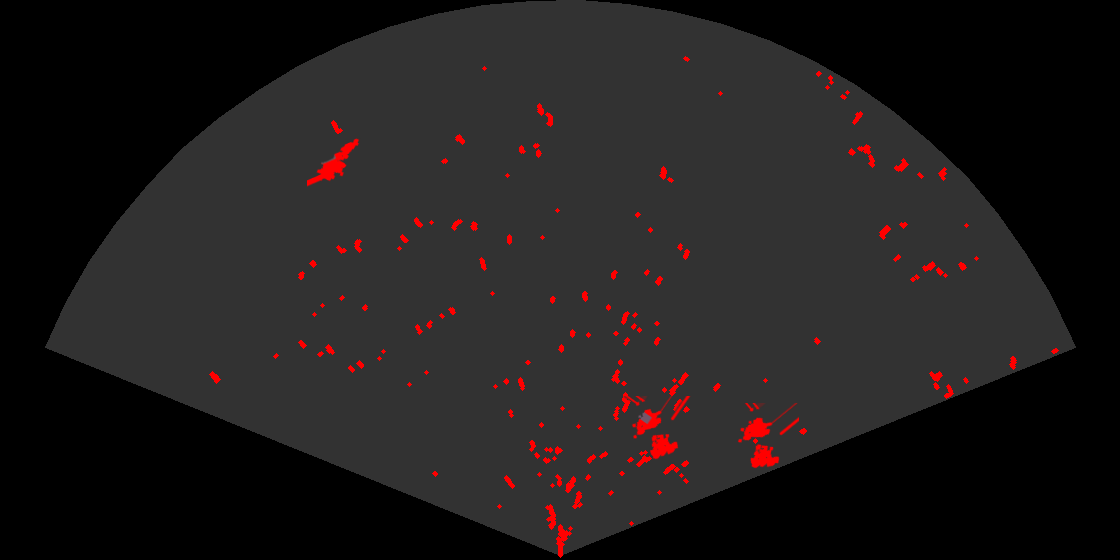cage: (623, 396, 692, 461), (736, 403, 799, 470)
frogman: (307, 137, 361, 188)
